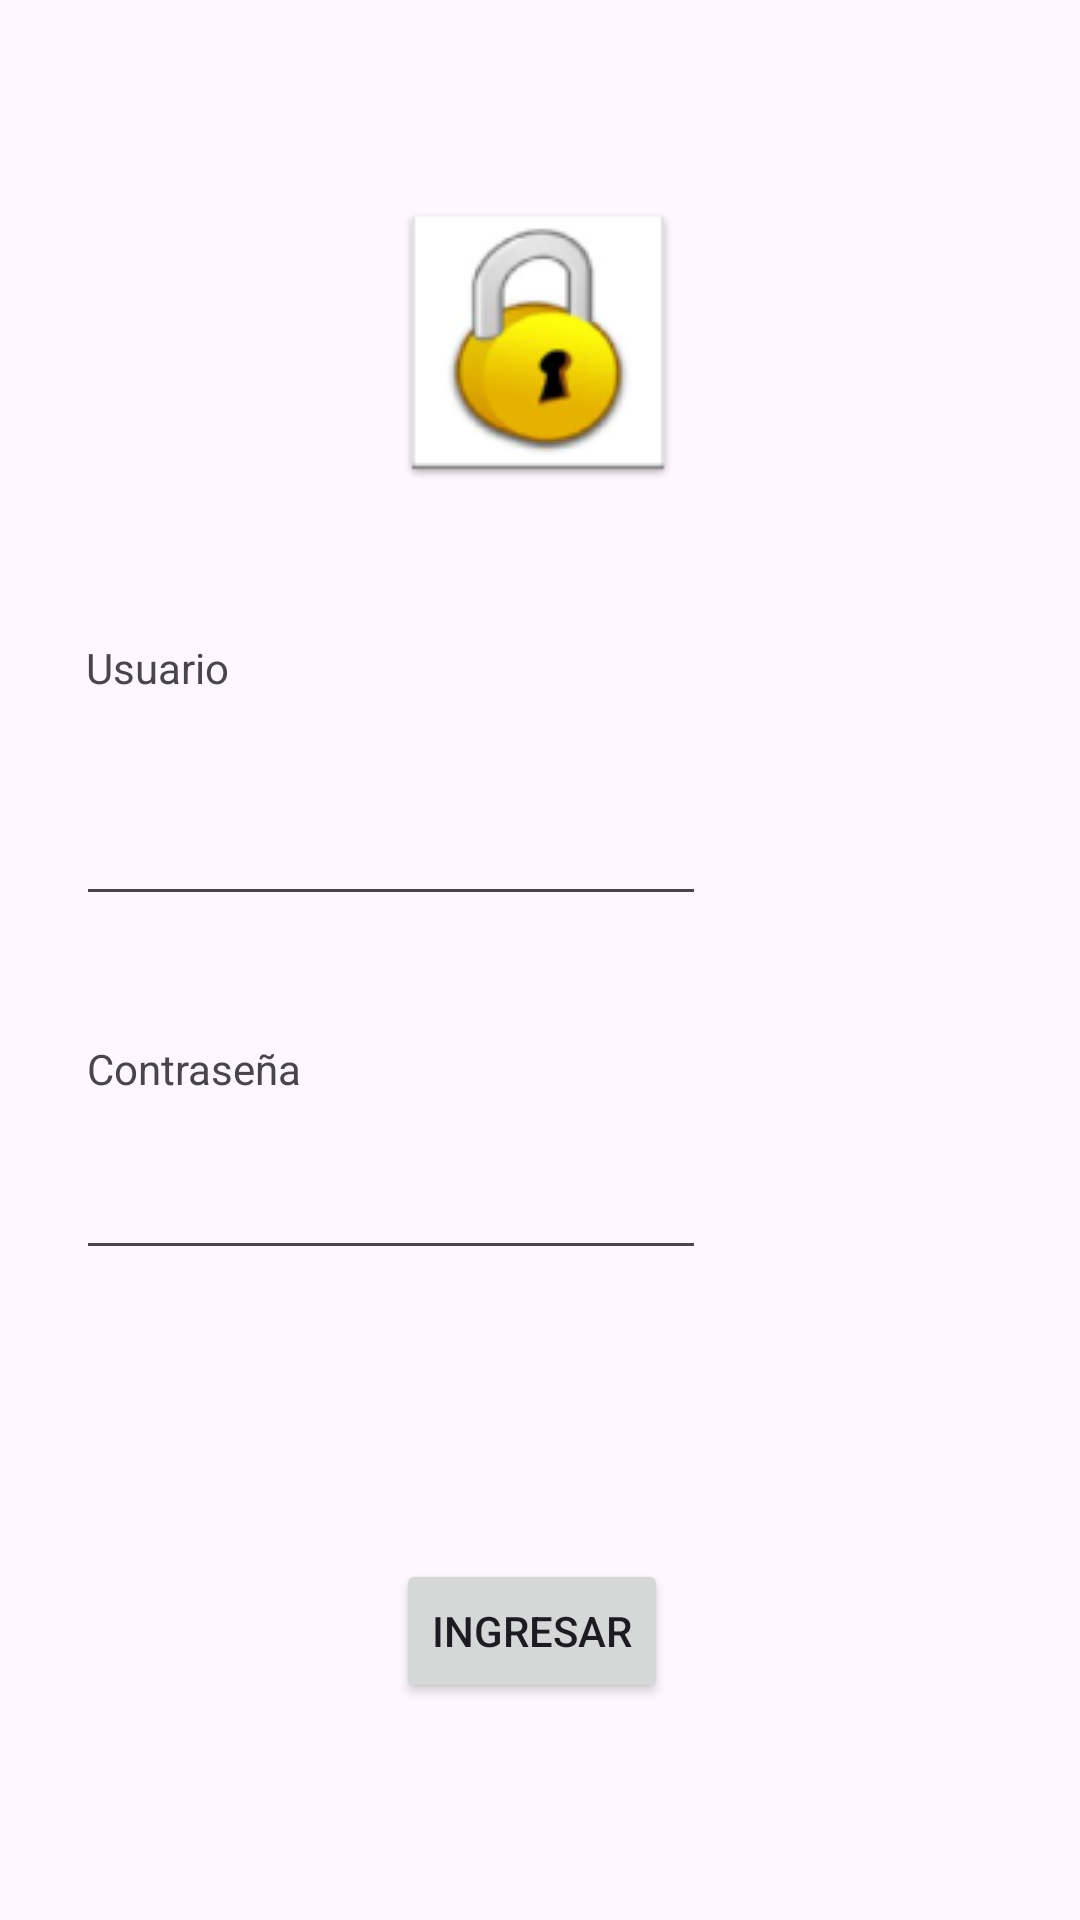

Named icons in this screenshot (1080×1920) and their centers, [x,y]:
login: [538,346]
